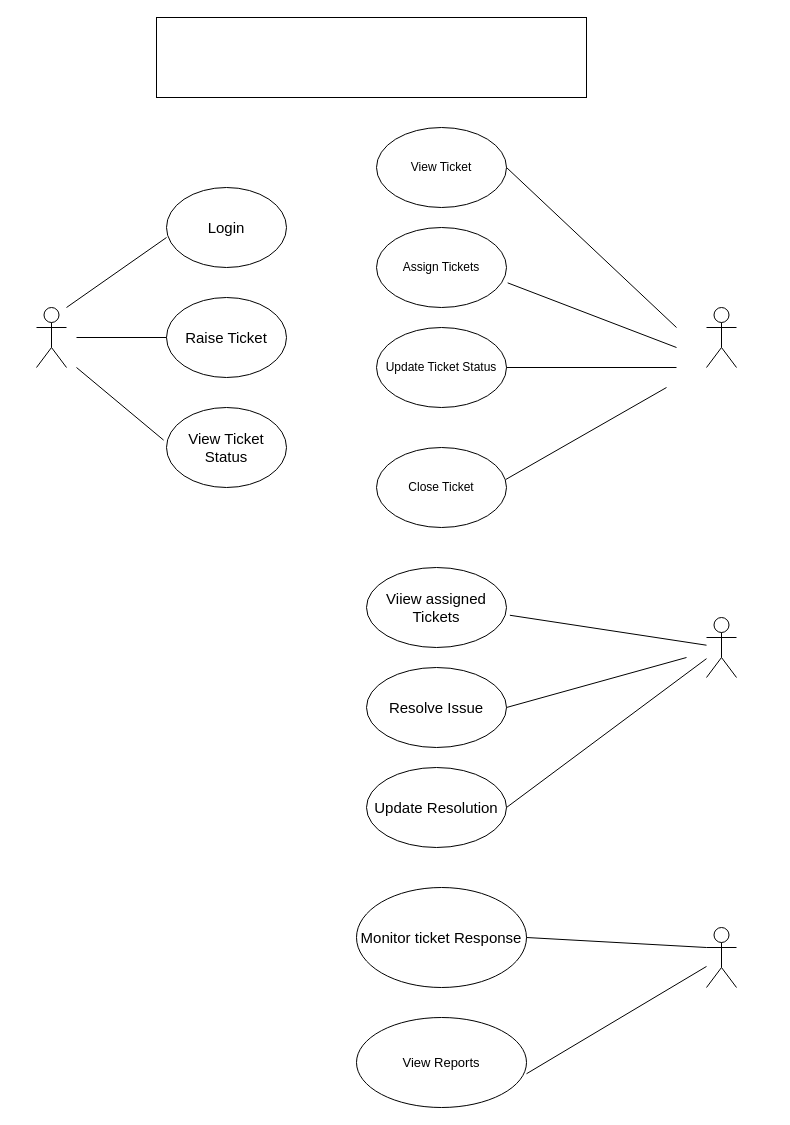
This 790x1125 diagram has some shape labels left out. Here are the shapes that lost their labels. From the top down, the box of each, then its label:
(156, 16, 586, 98): IT Help Desk Ticket Resolution System
(36, 306, 66, 368): Empoyee
(706, 306, 736, 368): Help Desk Agent
(706, 616, 736, 678): IT Technician
(706, 926, 736, 988): IT Manager
